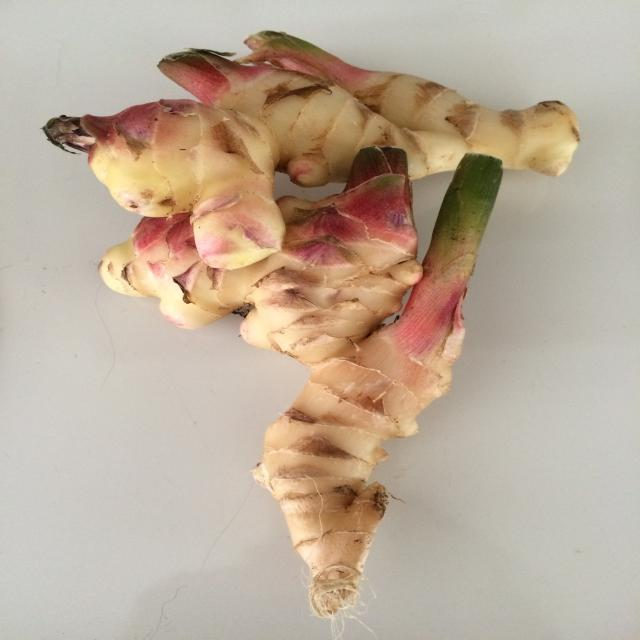ginger: (104, 45, 360, 354)
